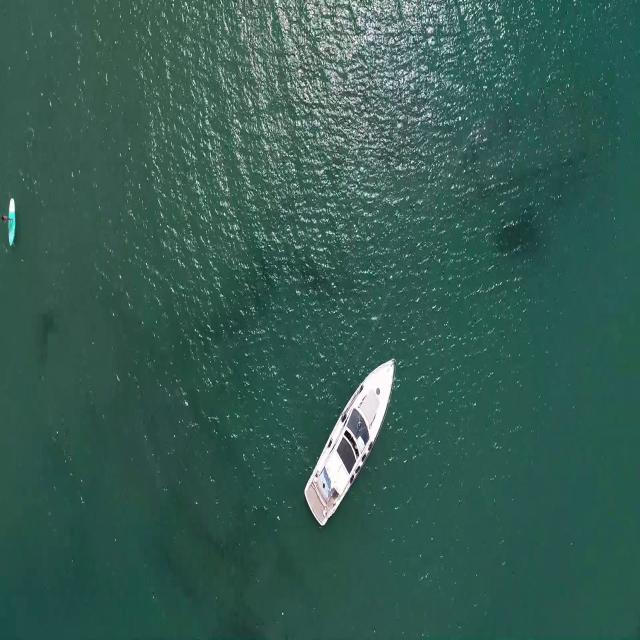boat: (294, 356, 396, 528)
person: (2, 210, 15, 227)
surfboard: (8, 198, 17, 245)
